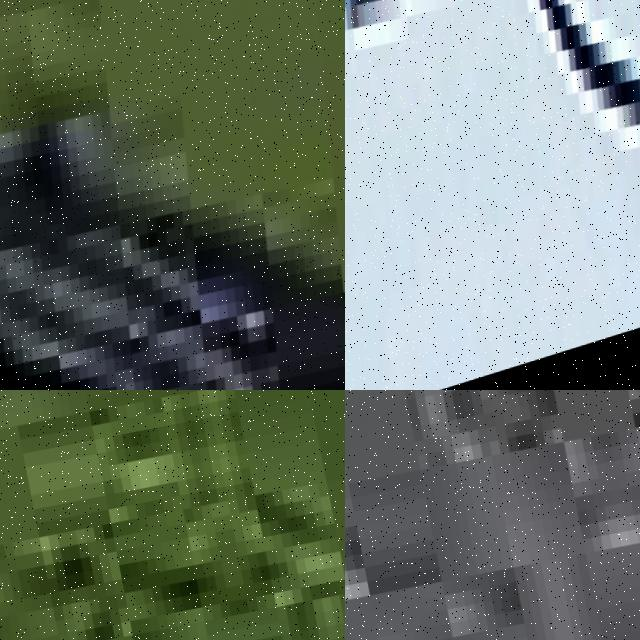0: (0, 0, 345, 390)
drone: (345, 0, 640, 390)
